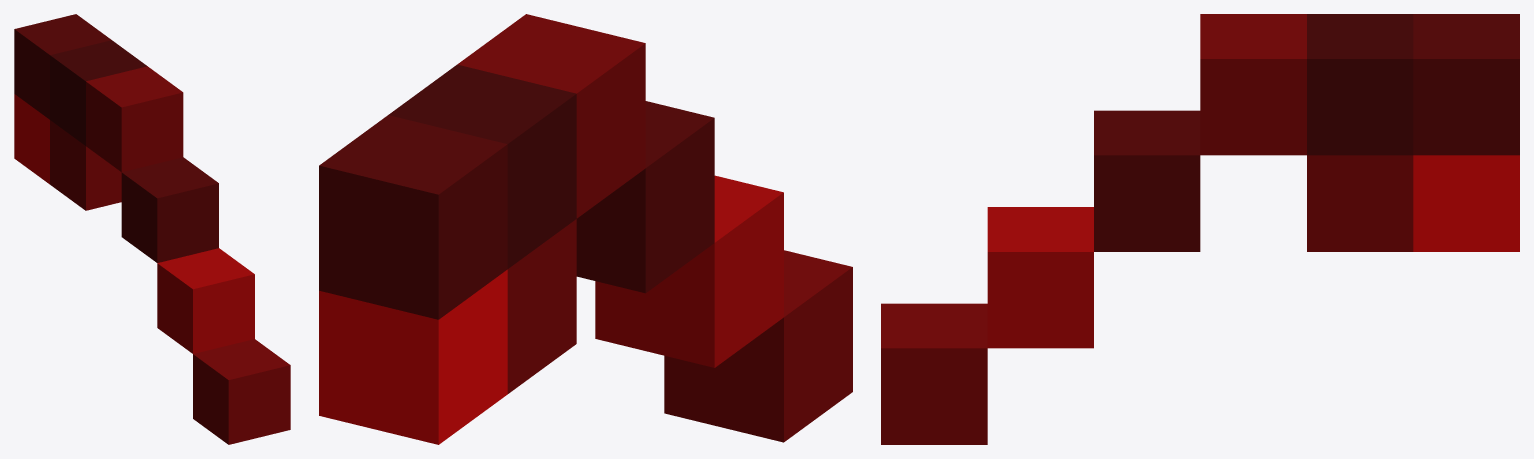
File: others2 - Kopya-0.obj
3 renders of one model, left to right at view 1: azimuth 30°, elevation 25°; view 2: azimuth 150°, elevation 25°; view 3: azimuth 270°, elevation 25°, orthographic. The views are drawn at different scales.
Size of the model in its own units: 0.1 by 0.4 by 0.6.
1 material, 1 textured.
